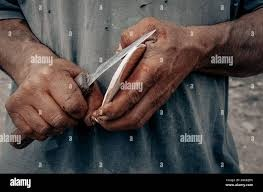knife: (9, 28, 155, 150)
